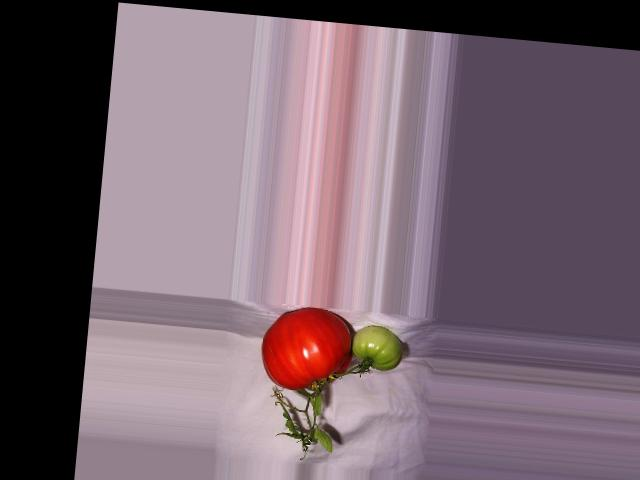tomato: (258, 303, 356, 395)
